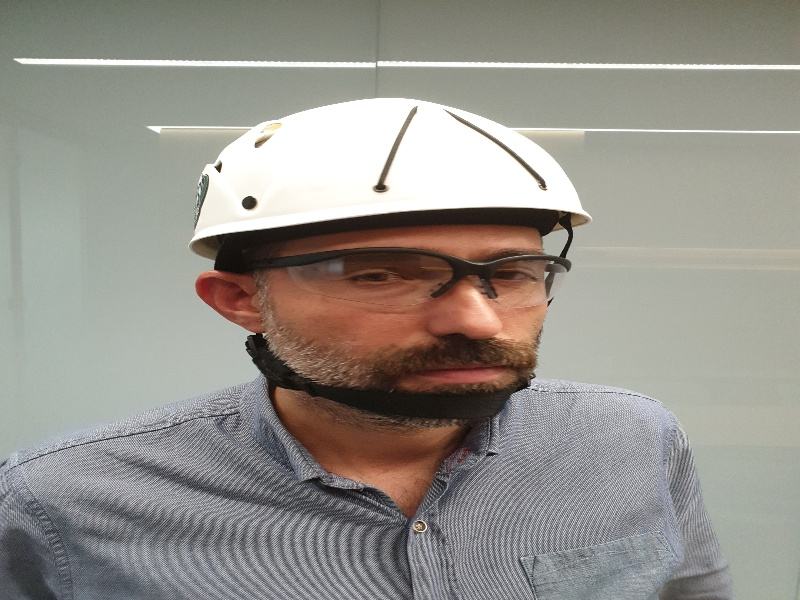Baret: (193, 98, 592, 233)
Gozluk: (231, 247, 573, 310)
